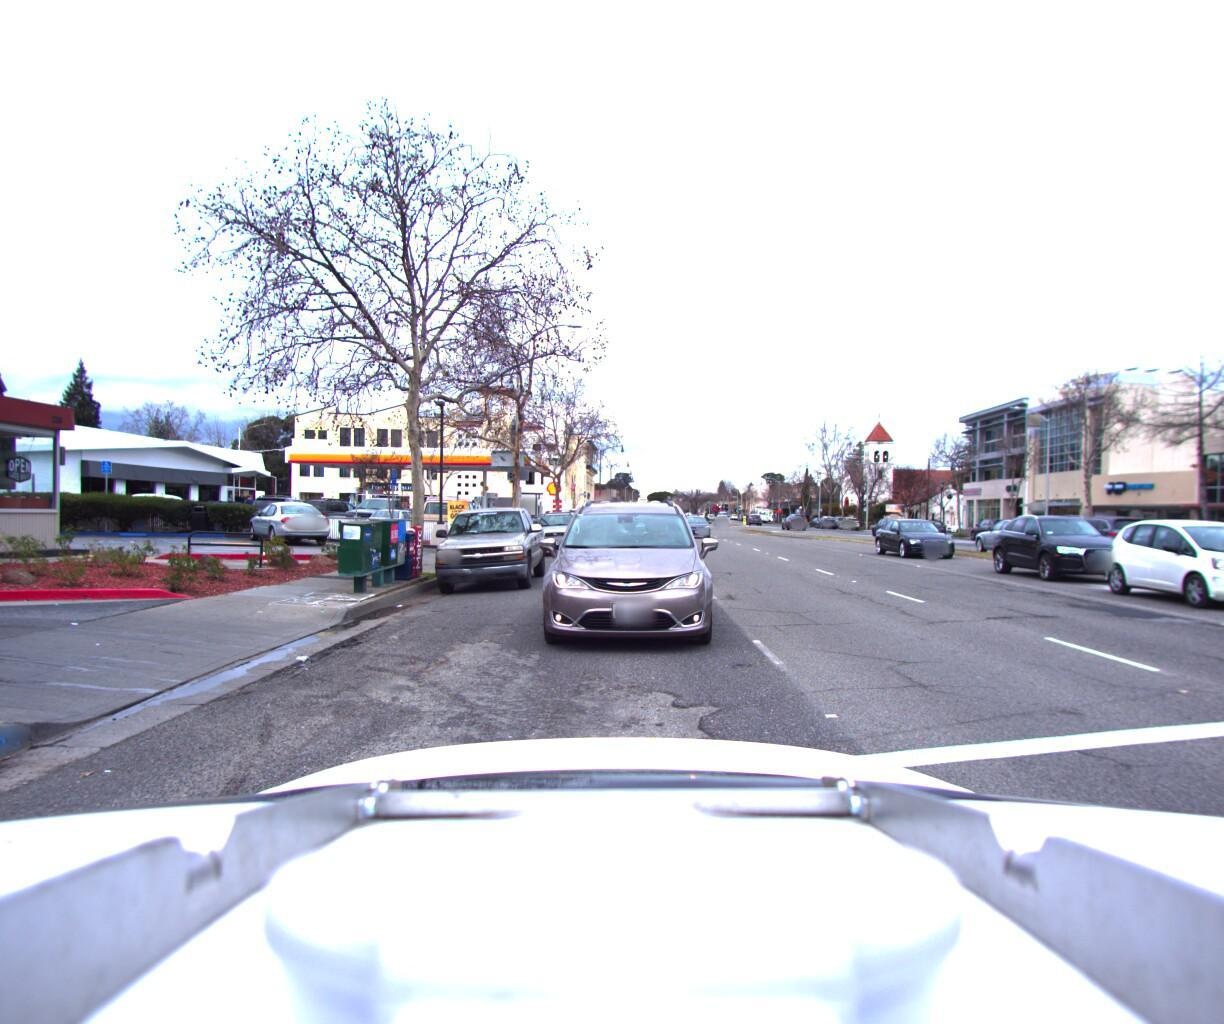car: (513, 483, 733, 663), (1079, 513, 1224, 612), (973, 508, 1144, 581), (421, 500, 550, 595), (1067, 509, 1180, 559), (238, 496, 341, 541), (950, 513, 1051, 555), (869, 514, 964, 557), (289, 494, 375, 533), (413, 490, 479, 540), (529, 503, 582, 553), (356, 504, 427, 539), (74, 469, 151, 495), (1203, 520, 1224, 573), (681, 511, 715, 537)
